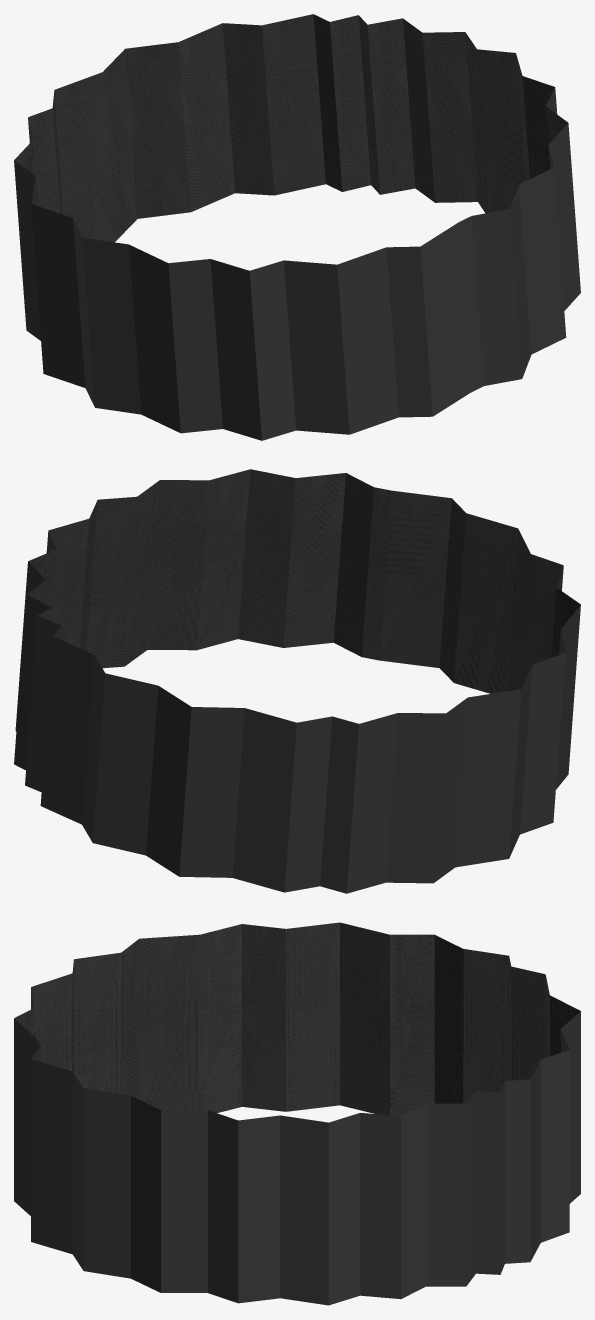
The model's file is original-80.obj.
3 views of the same model, one above another, from view 1: azimuth 30°, elevation 25°; view 2: azimuth 150°, elevation 25°; view 3: azimuth 270°, elevation 25° (orthographic). The views are drawn at different scales.
Visible parts, largest first — view 1: Group5/mesh34/mesh34-geometry/material_0#mesh34-geometry; view 2: Group5/mesh34/mesh34-geometry/material_0#mesh34-geometry; view 3: Group5/mesh34/mesh34-geometry/material_0#mesh34-geometry.
Part boxes in pixels (bbox=[...]): Group5/mesh34/mesh34-geometry/material_0#mesh34-geometry: bbox=[14, 14, 580, 440]; Group5/mesh34/mesh34-geometry/material_0#mesh34-geometry: bbox=[14, 469, 580, 893]; Group5/mesh34/mesh34-geometry/material_0#mesh34-geometry: bbox=[14, 922, 580, 1305].
Bounding box in the file's own units: 0.2118 × 0.0868 × 0.2072.
Materials: 2 (1 with a texture image).
